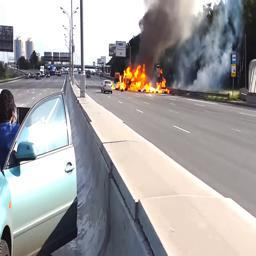fire: (114, 63, 170, 95)
